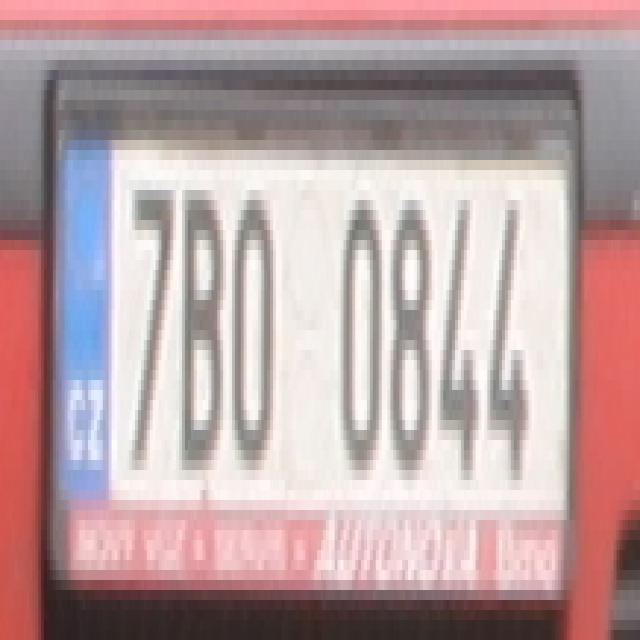0: (226, 170, 279, 460), (338, 190, 382, 480)
4: (488, 190, 532, 480), (434, 190, 476, 490)
7: (129, 160, 173, 470)
8: (388, 180, 432, 480)
B: (179, 180, 223, 480)
